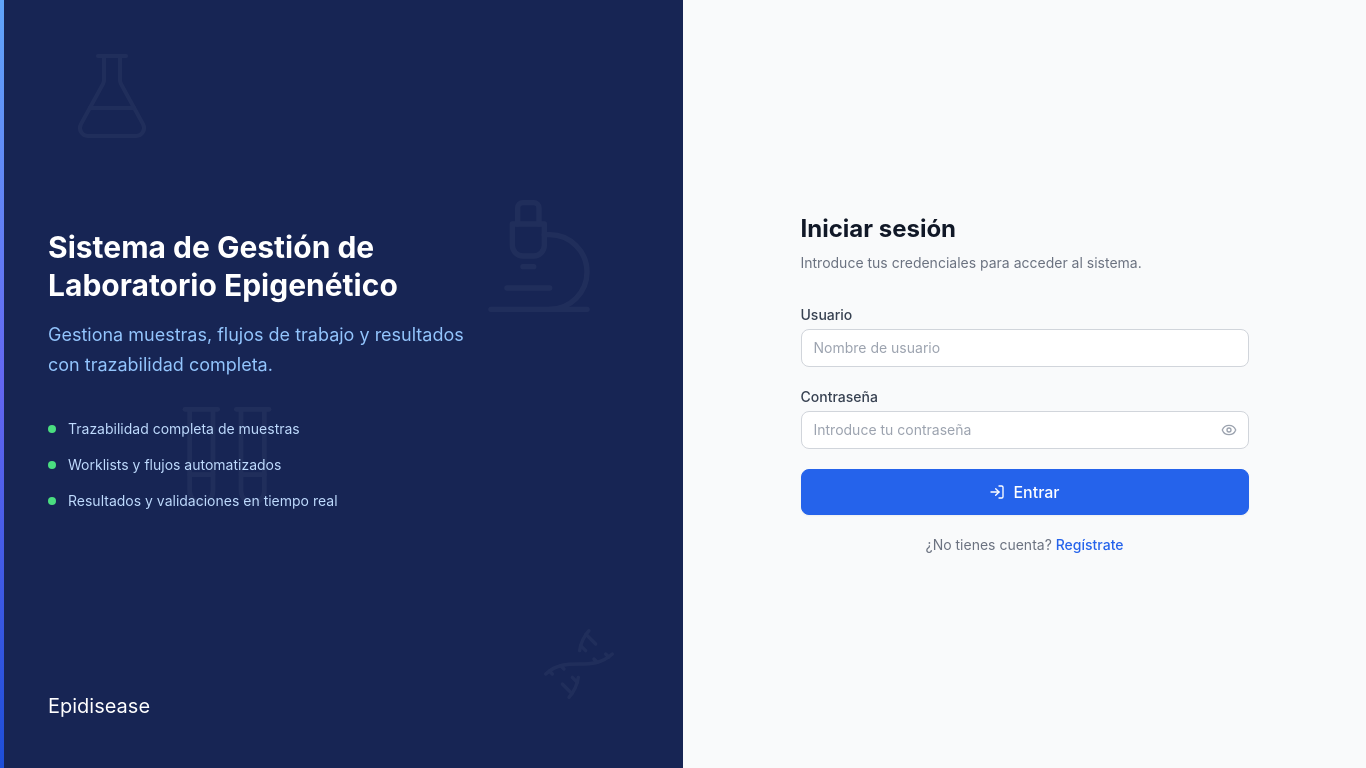
Test: muestra mensaje de error si login falla
Step 1. Type "demo" into the field with placeholder "Nombre de usuario" → (1024, 348), box [800,329,1248,367]
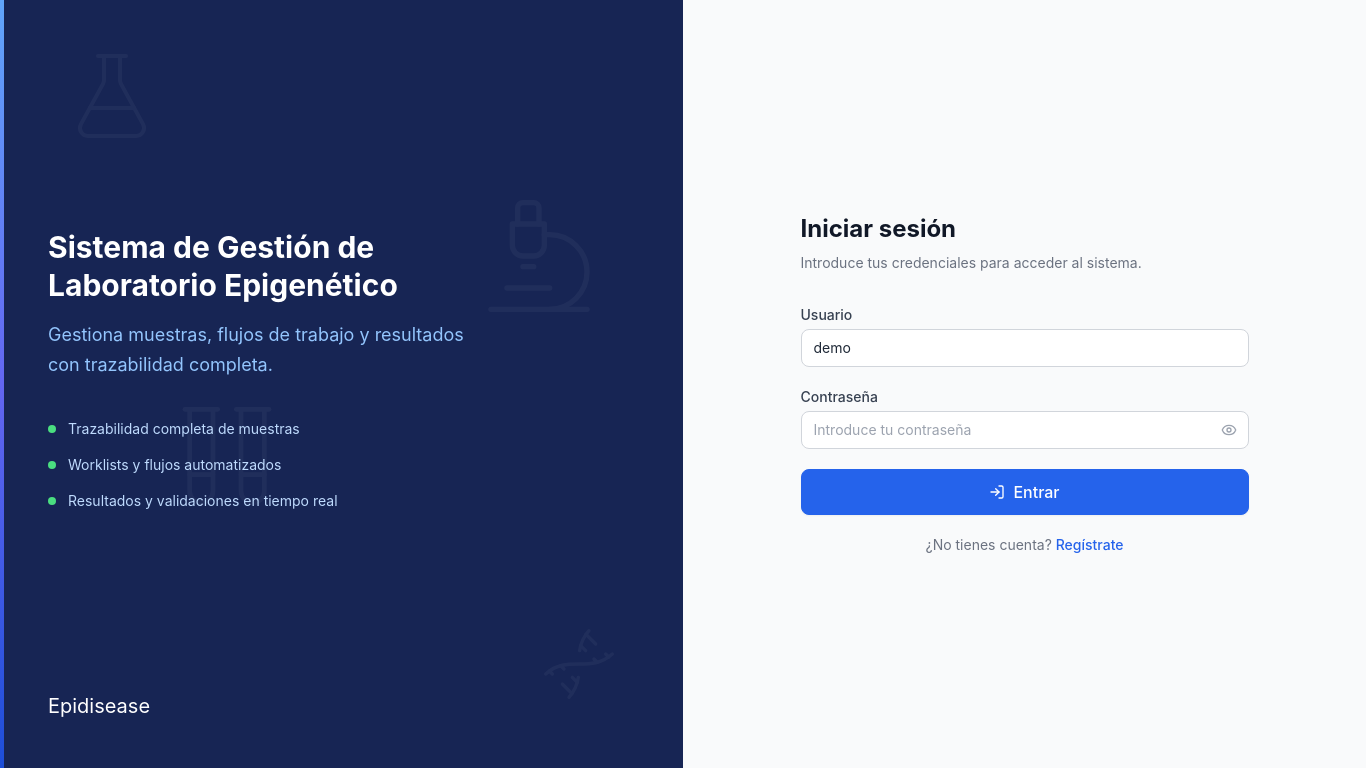
Step 2. Type "wrongpass" into the password field with placeholder "Introduce tu contraseña" → (1024, 430), box [800,411,1248,449]
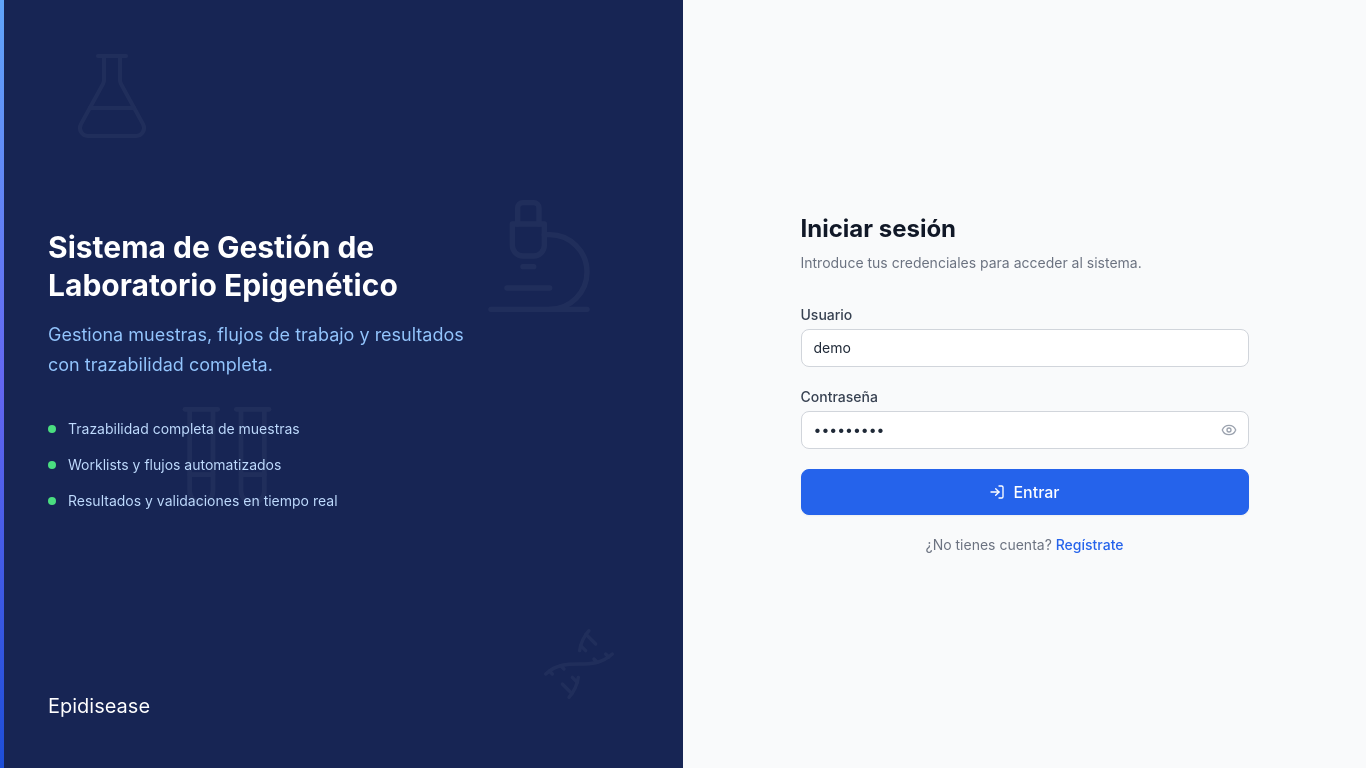
Step 3. Click the button "Entrar" → (1024, 492), box [800,469,1248,515]
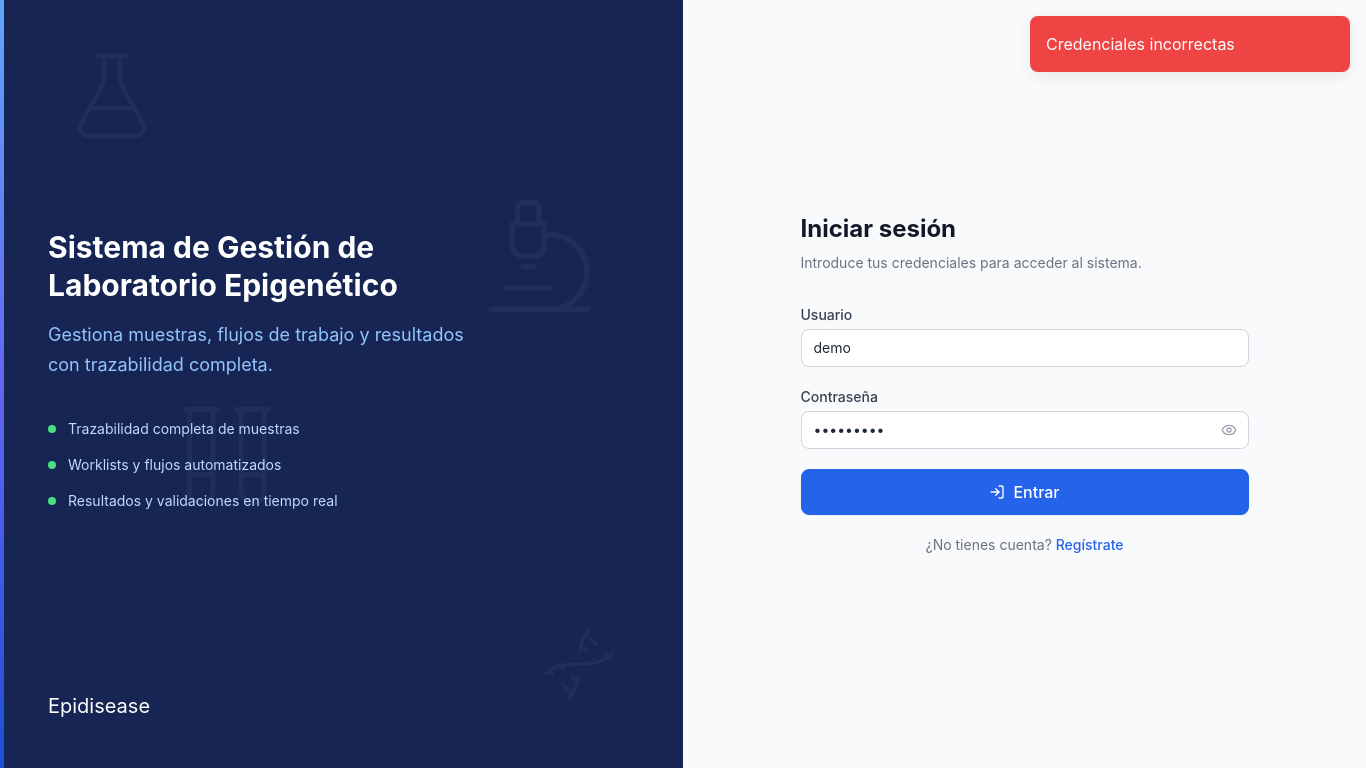
Expected: the text "Credenciales incorrectas" is shown, [1030,16,1350,72]
